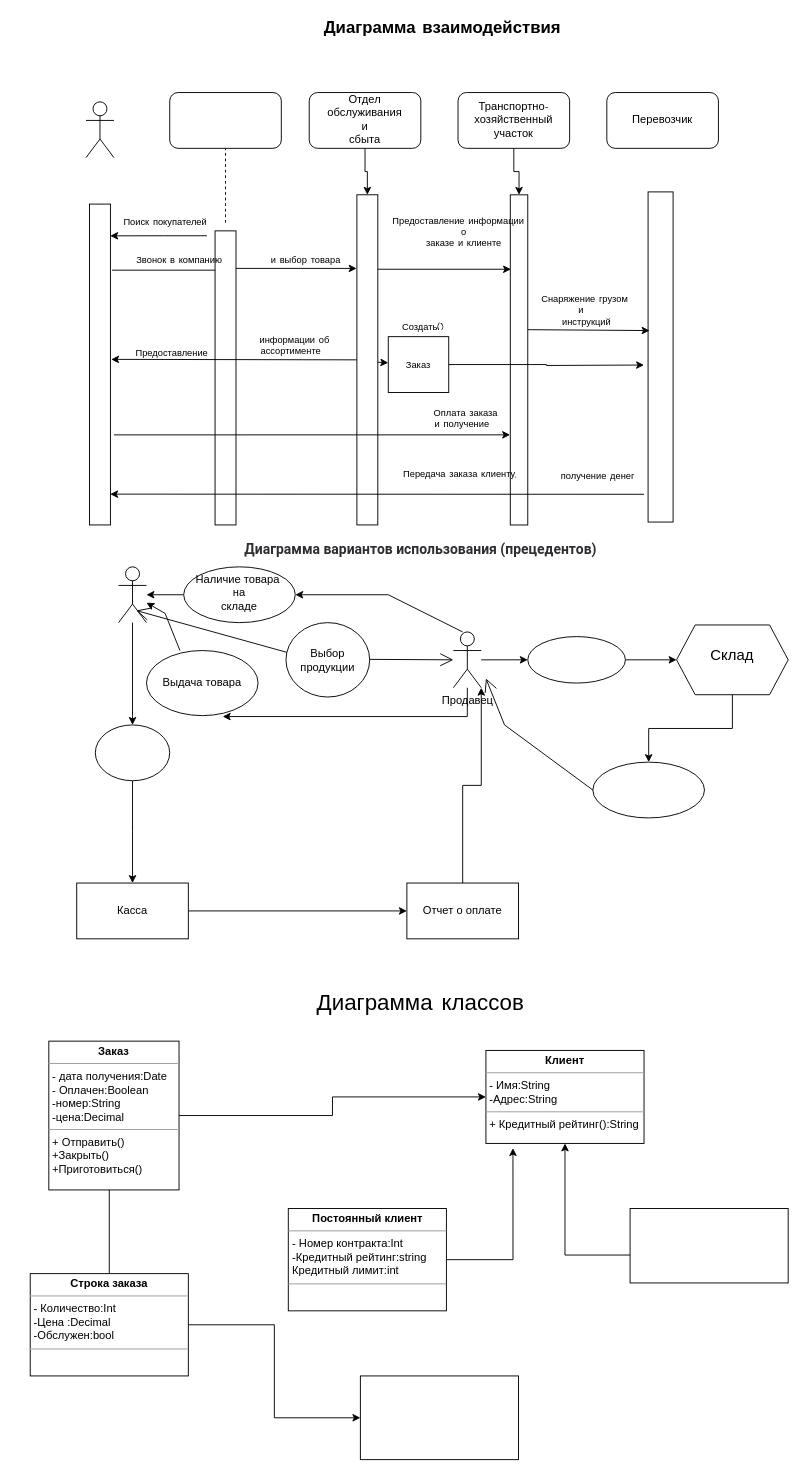
The diagram is 804 pixels wide and 1476 high, and some of its shapes have lost their labels. The shapes that lost their labels are listed below. From the top down, each one's centre as x and y in pixels, then its label:
[99,129]: Потенциальный клиент
[225,120]: Коммерческий отдел
[132,594]: Клиент
[576,659]: Наличие товара
[132,752]: Оплата товара
[648,789]: Отчет о наличии товара
[708,1245]: Частный клиент +Номер Кредитной Карты:int
[438,1417]: Продукт
